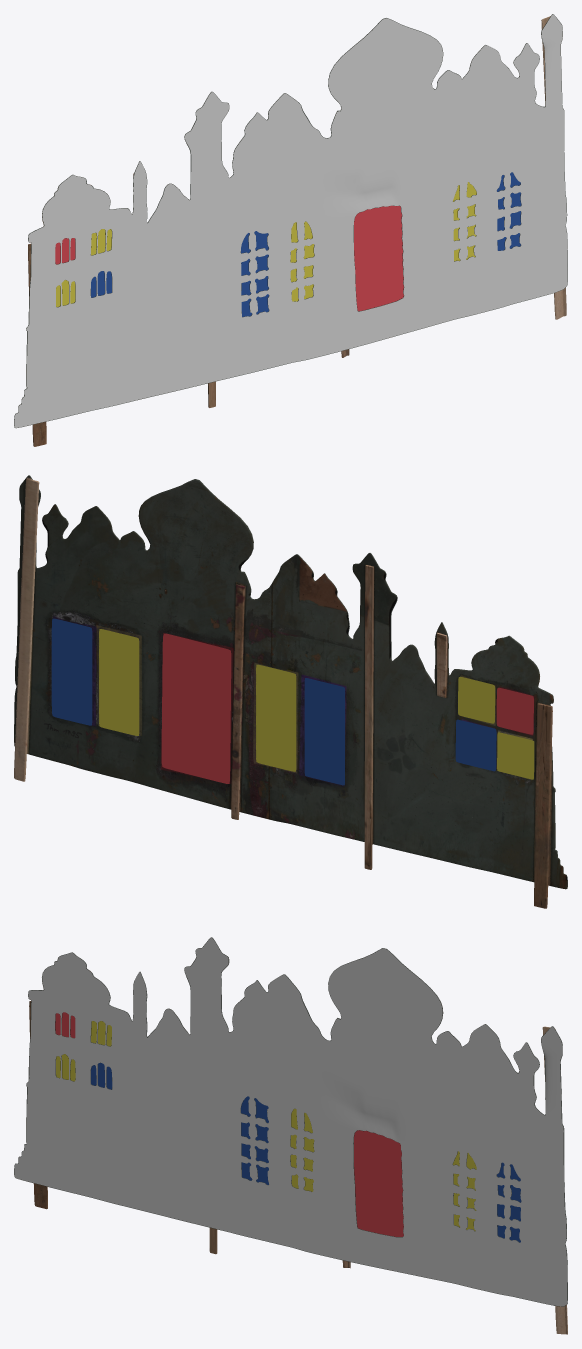
The picture shows the model from 3 angles, top to bottom: view 1: azimuth 30°, elevation 25°; view 2: azimuth 150°, elevation 25°; view 3: azimuth 330°, elevation 25°; orthographic projection.
Visible parts, largest first — view 1: color5; view 2: color5; view 3: color5.
Boxes of the visible parts, left/top/right/bottom form: color5: left=14, top=14, right=567, bottom=446; color5: left=14, top=475, right=567, bottom=908; color5: left=14, top=937, right=567, bottom=1334.
Bounding box in the file's own units: 149 × 89.58 × 0.7121.
